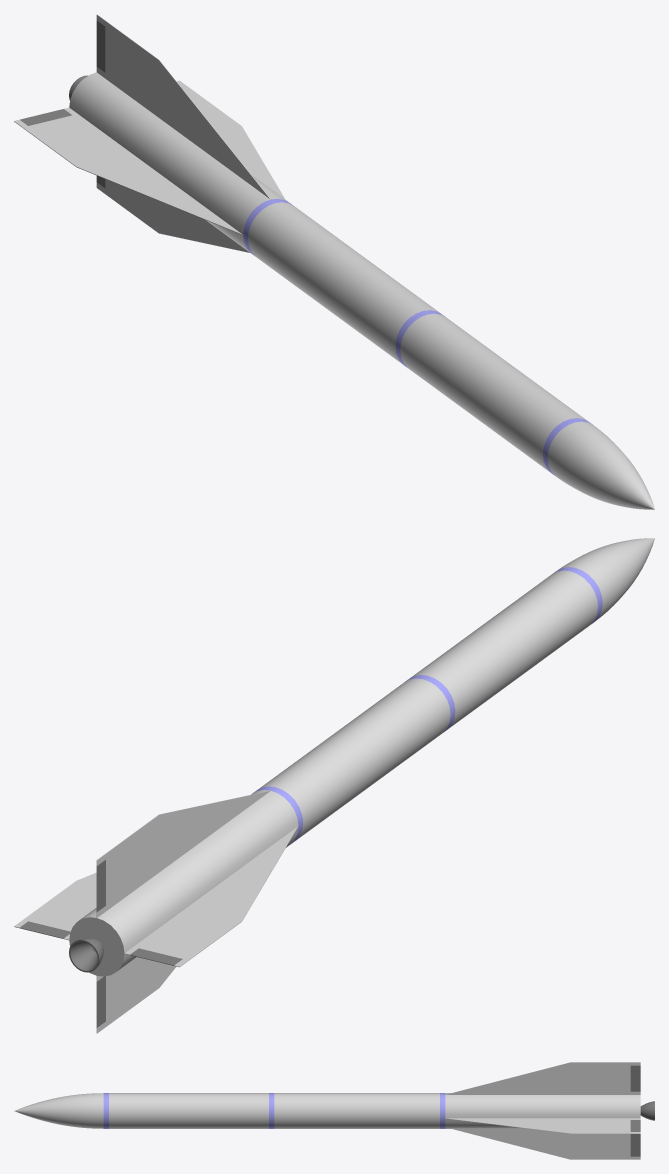
File: missile.glb
3 views of the same model, one above another, from view 1: azimuth 30°, elevation 25°; view 2: azimuth 150°, elevation 25°; view 3: azimuth 270°, elevation 25° (orthographic). The views are drawn at different scales.
Parts seen in each view (by area): view 1: Material2 (×3); view 2: Material2 (×3); view 3: Material2 (×3).
Part boxes in pixels (x1,y1,x2,y2): Material2 (×3): (14,14,654,509); Material2 (×3): (14,538,654,1033); Material2 (×3): (14,1062,654,1159).
Bounding box in the file's own units: 23.62 × 23.62 × 141.
